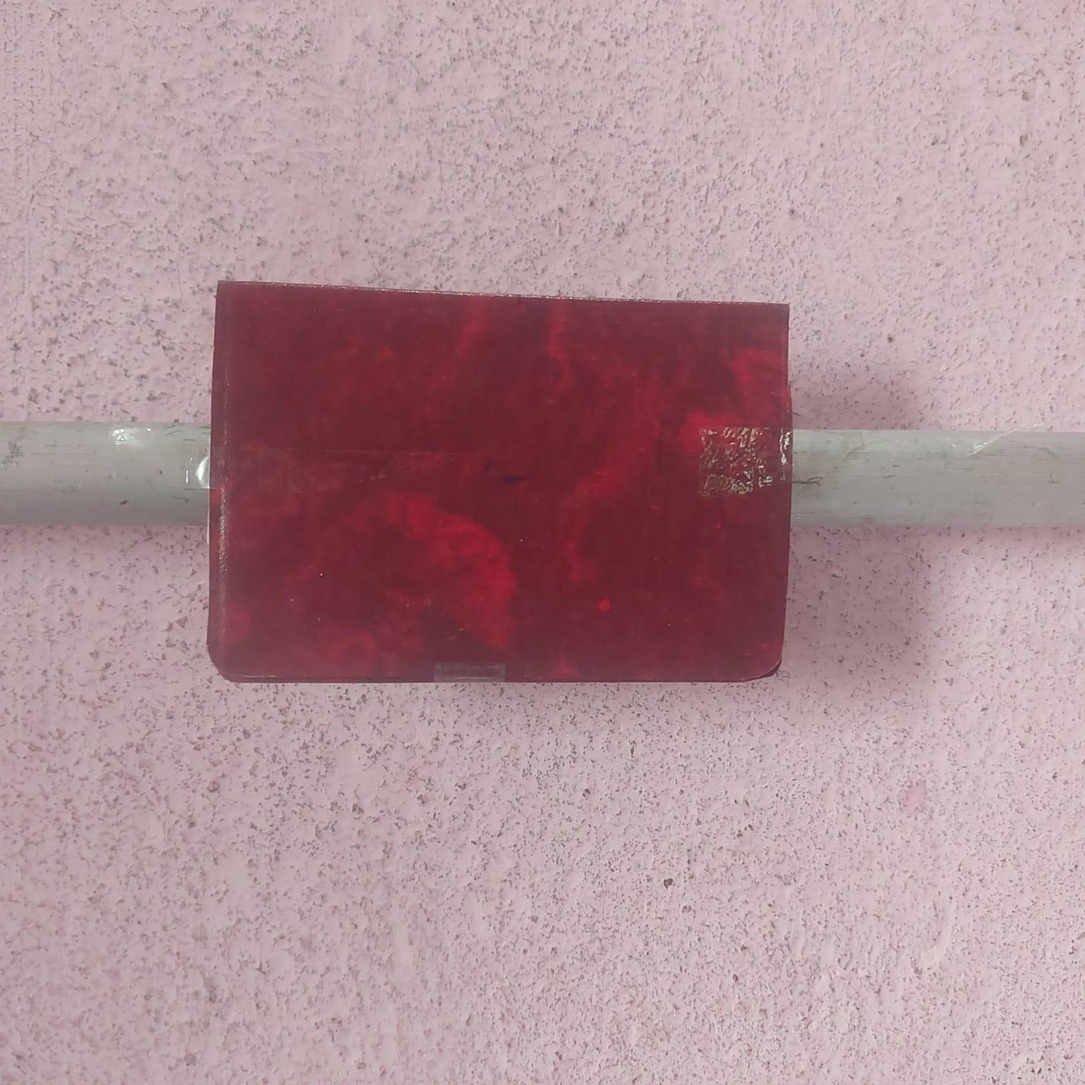wallet: (209, 282, 793, 685)
